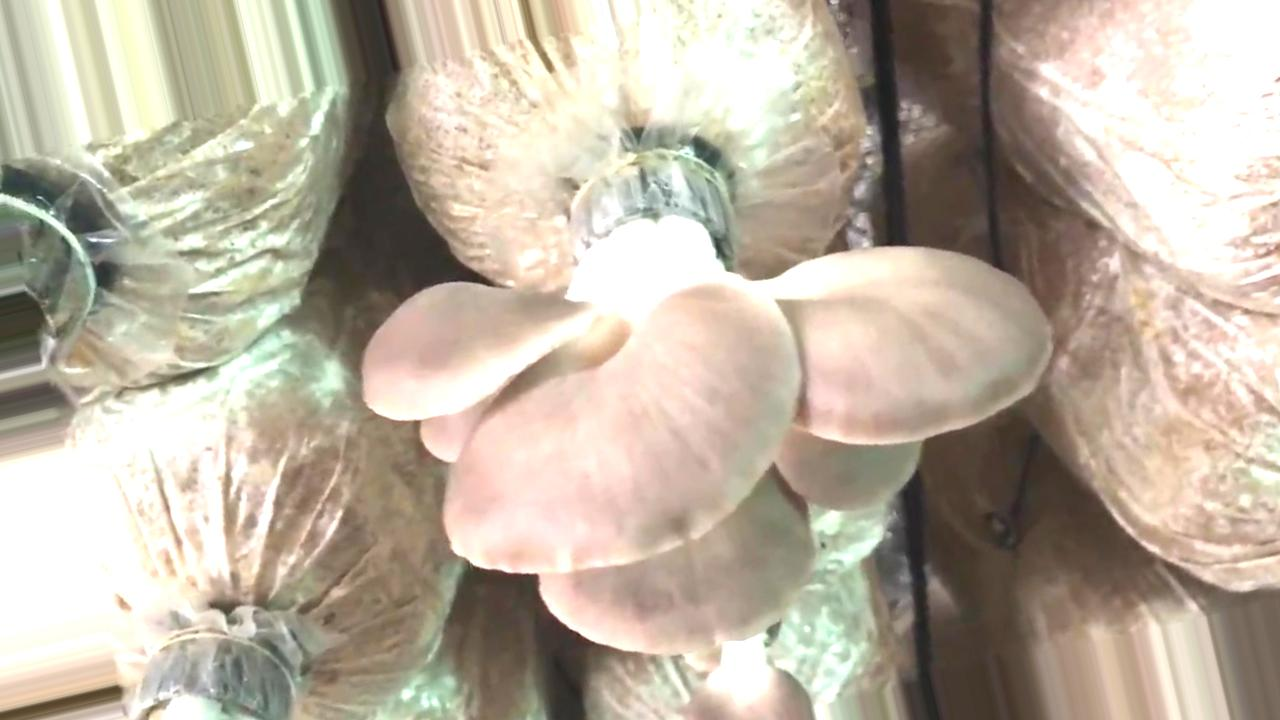nam: (365, 154, 1045, 653), (694, 630, 811, 719)
